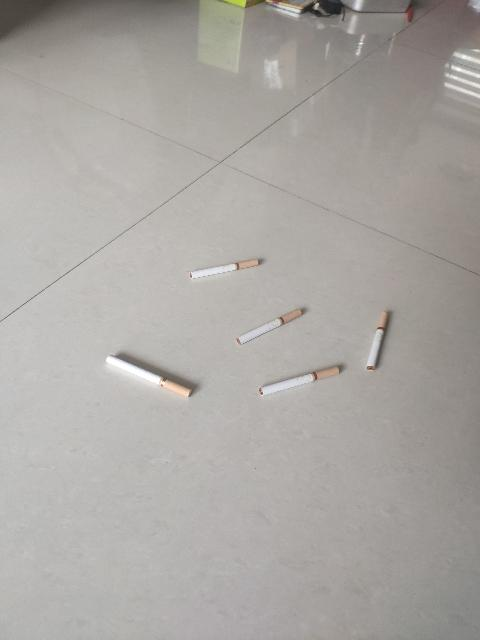Cigarette: (106, 356, 196, 398), (236, 308, 304, 346), (260, 366, 340, 396), (368, 312, 390, 372), (189, 260, 259, 278)
